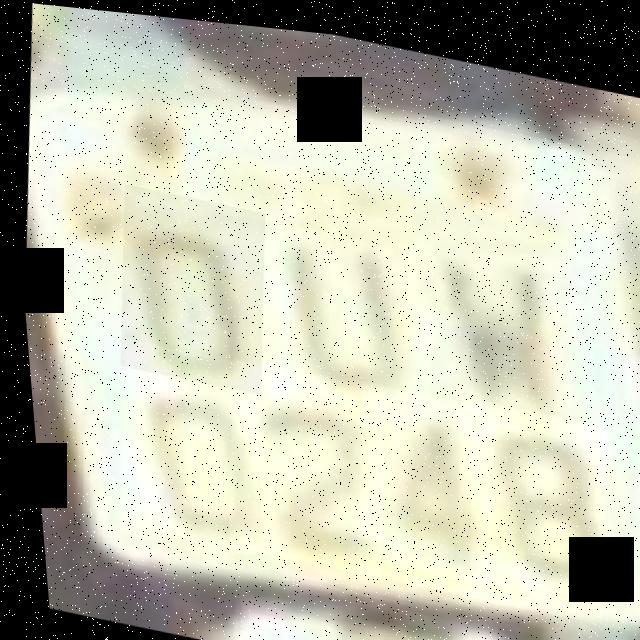0: (99, 334, 267, 553)
2: (207, 351, 391, 572)
4: (335, 372, 501, 592)
8: (445, 391, 620, 623)
B: (434, 386, 613, 613)
O: (102, 180, 273, 391)
U: (241, 187, 443, 418)
